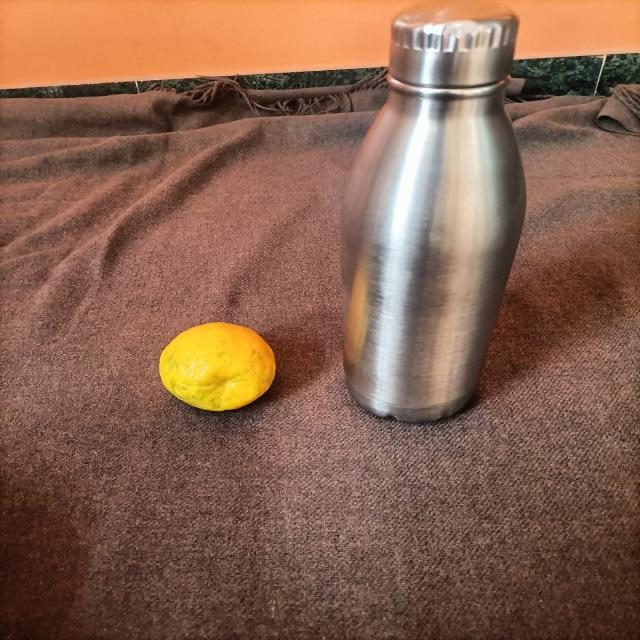bottle: (299, 9, 553, 458)
orange: (136, 317, 295, 425)
